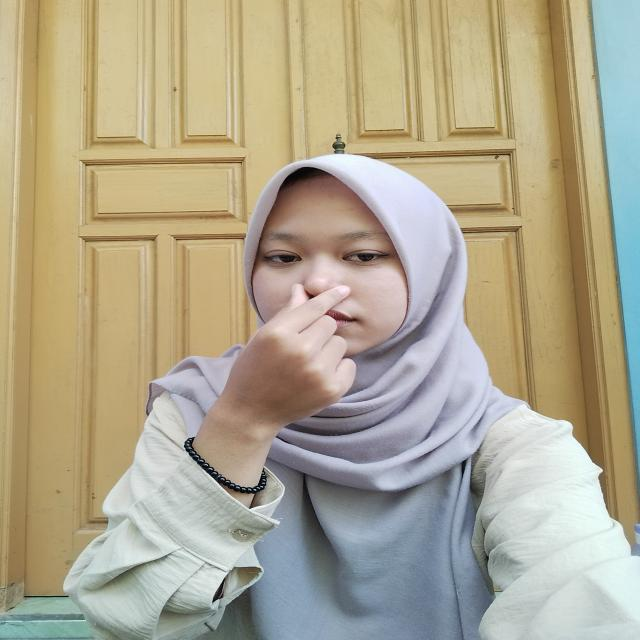bau: (223, 276, 380, 430)
